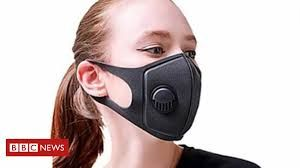with-mask: (68, 1, 219, 146)
